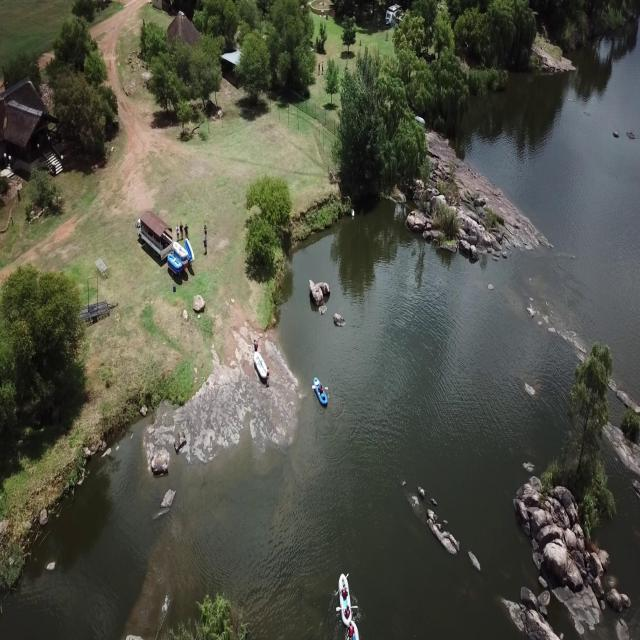kayak: (334, 573, 356, 628), (312, 377, 330, 411)
